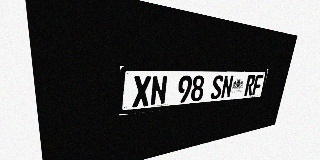8: (190, 75, 205, 102)
9: (177, 75, 193, 103)
F: (252, 75, 263, 95)
N: (150, 76, 168, 106), (220, 75, 234, 99)
R: (244, 75, 256, 96)
S: (210, 75, 224, 100)
X: (132, 76, 151, 108)
